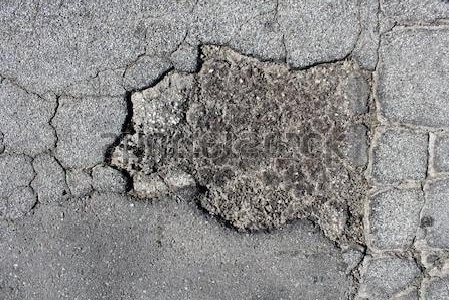pothole: (100, 40, 377, 240)
